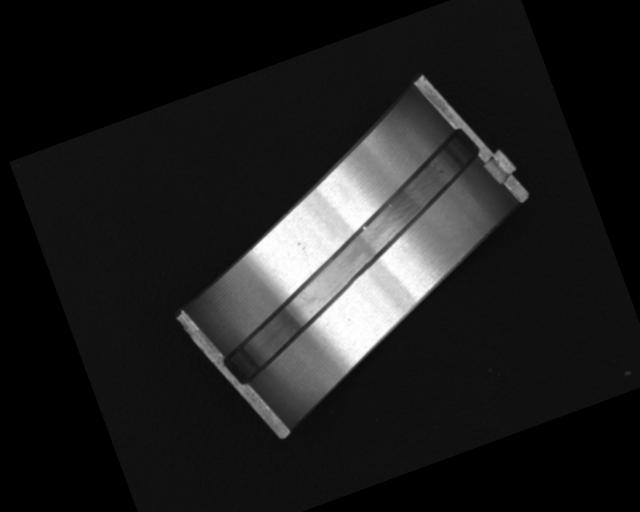gap: (176, 126, 527, 390)
